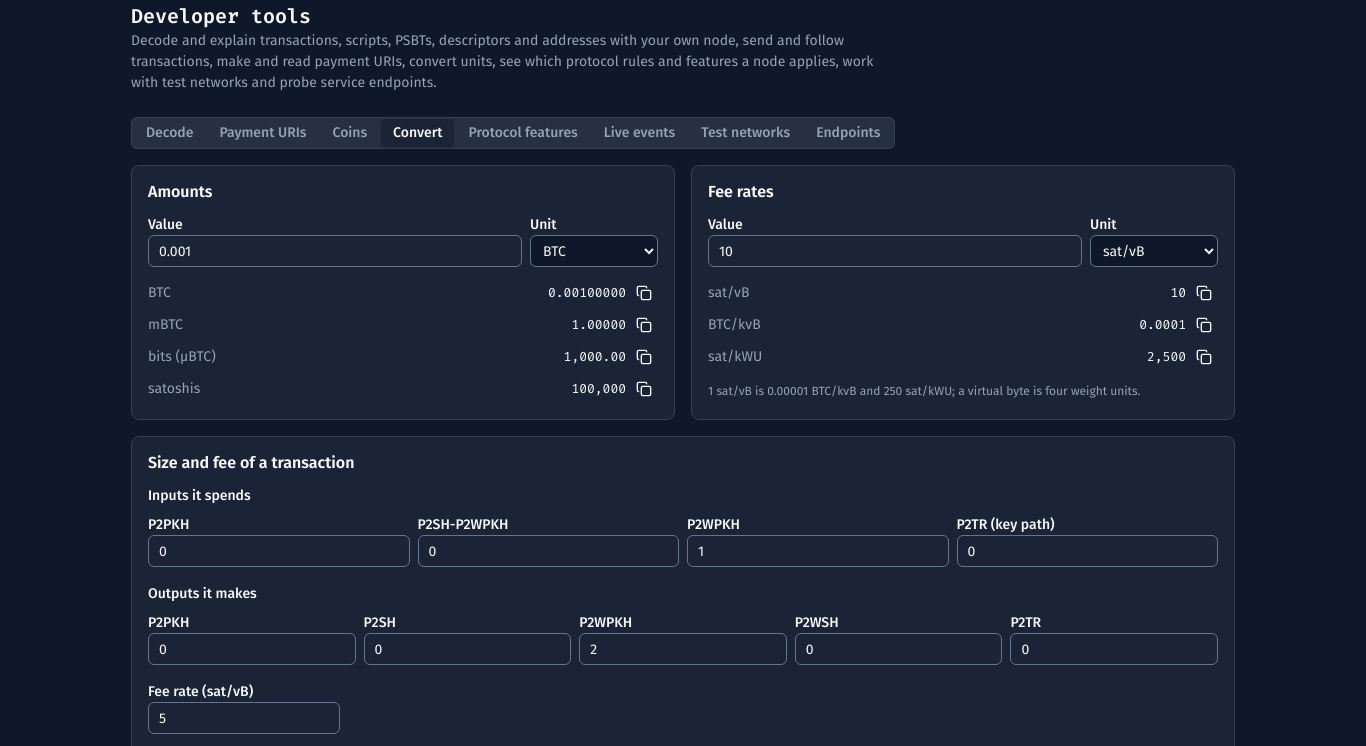
Test case: Developer tools › estimates a transaction’s size and fee from its inputs and outputs
Replace the text in the field labelled "P2TR (key path)" with "1" at (1087, 551), box [956,535,1218,567]
(page scrolled)
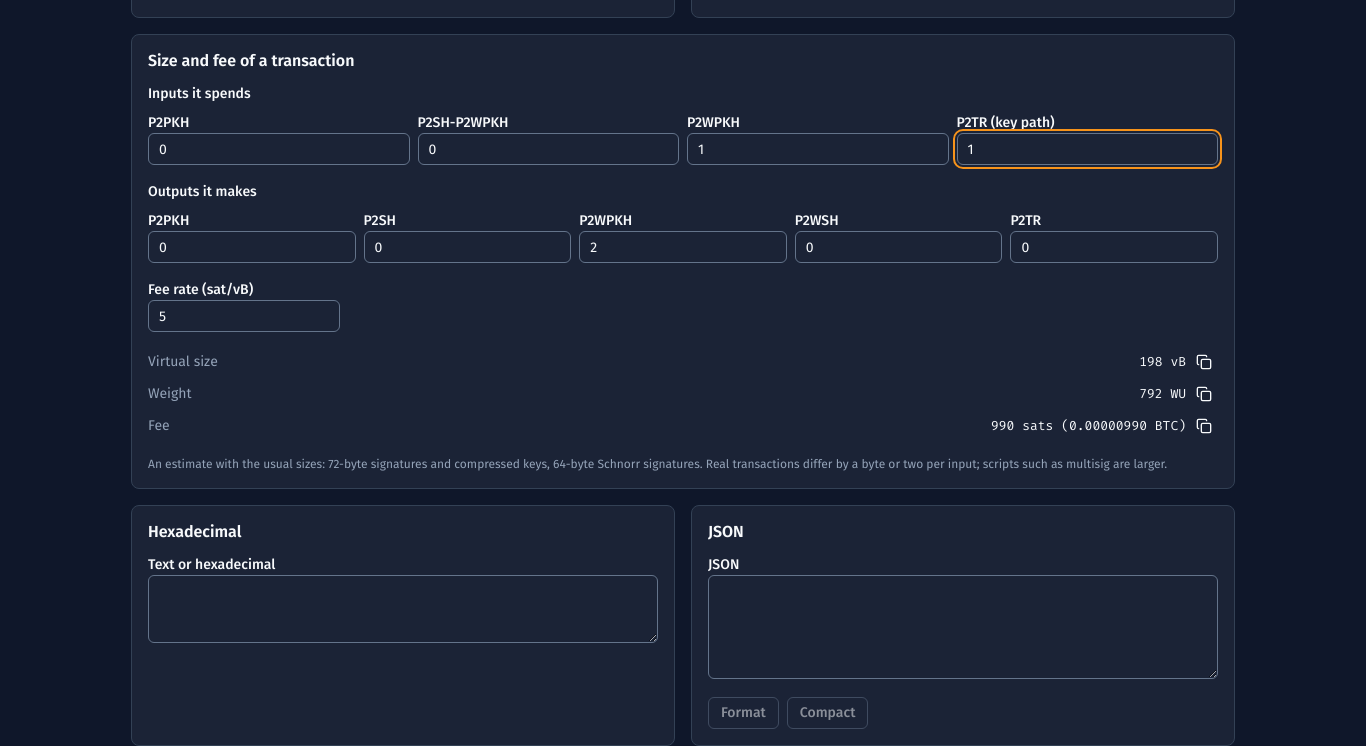
Now the text "198 vB" is shown, box [1139,352,1186,372]
